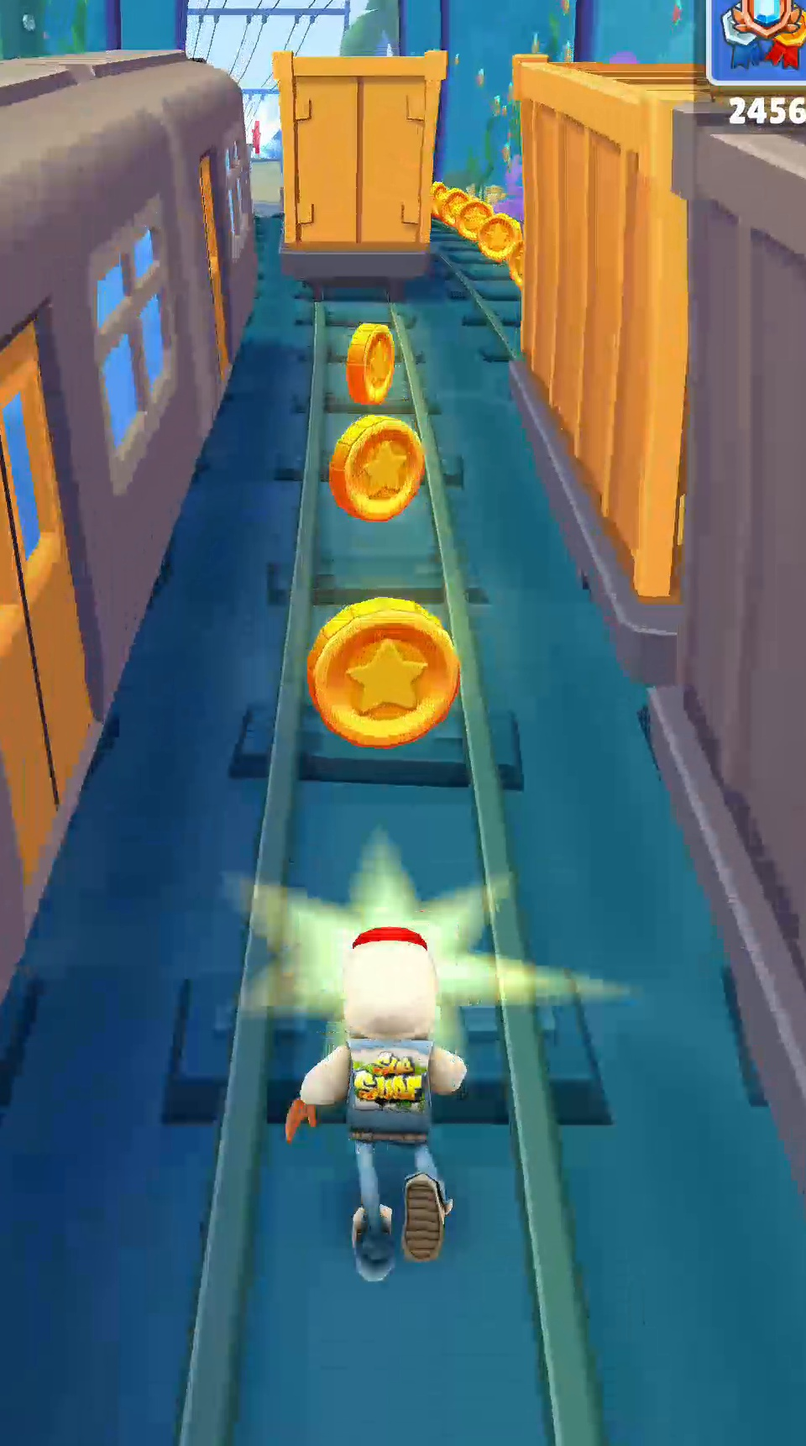climber: (251, 158, 280, 214)
train: (0, 50, 256, 997), (652, 107, 805, 1196), (513, 57, 704, 622), (274, 51, 446, 280)
